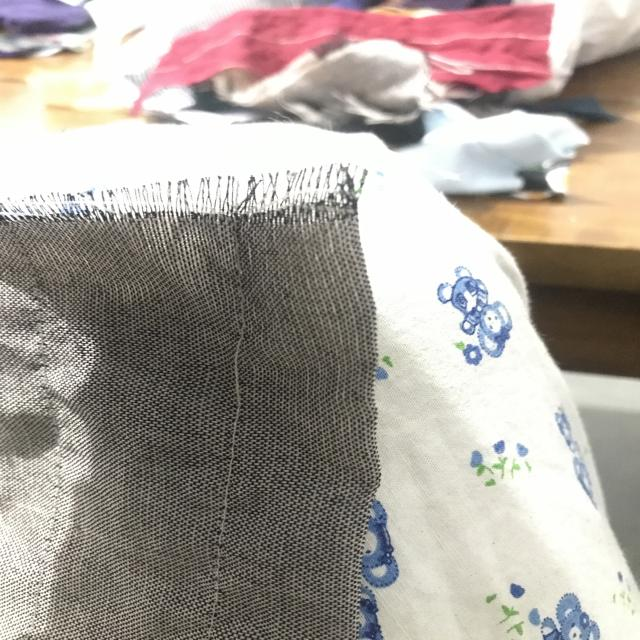good: (229, 432, 238, 469)
skip: (210, 324, 273, 408)
